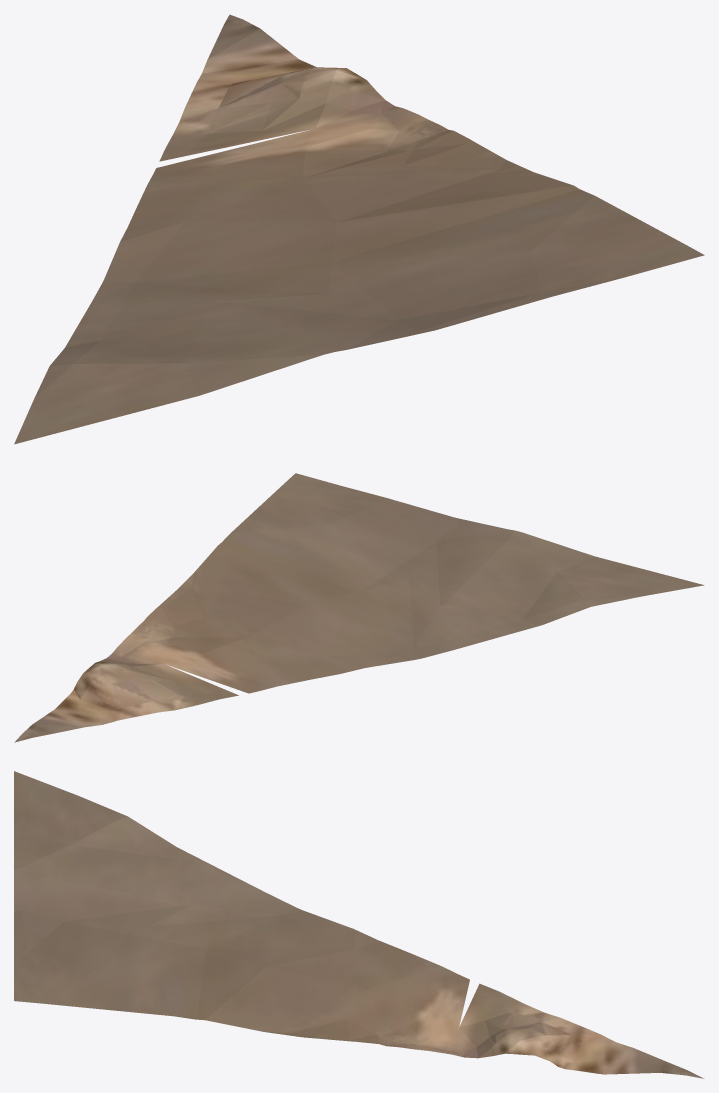
3 views of the same model, one above another, from view 1: azimuth 30°, elevation 25°; view 2: azimuth 150°, elevation 25°; view 3: azimuth 270°, elevation 25° (orthographic). The views are drawn at different scales.
Bounding box in the file's own units: 1.63 × 0.2419 × 1.94.
Materials: 1 (1 with a texture image).
